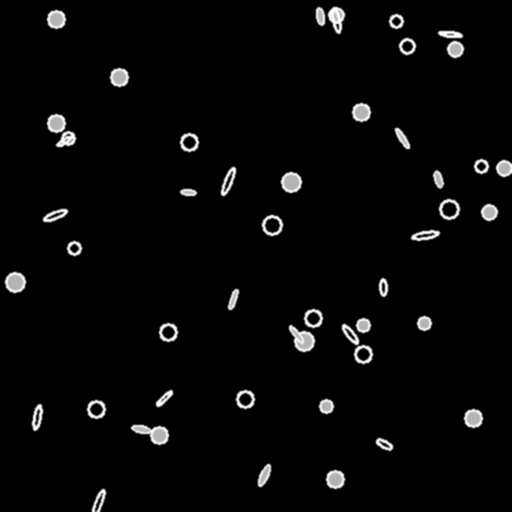pseudomonas: (220, 167, 236, 195), (340, 323, 360, 345), (256, 463, 272, 487), (90, 489, 106, 512), (394, 127, 410, 149), (43, 208, 67, 222), (155, 389, 173, 407), (288, 325, 304, 343), (330, 8, 342, 32), (412, 230, 438, 240), (227, 289, 239, 309), (32, 405, 42, 429), (376, 437, 392, 451), (432, 170, 444, 188), (131, 424, 151, 434), (56, 135, 72, 147), (438, 30, 462, 38), (315, 7, 325, 25), (380, 278, 386, 296), (180, 189, 196, 195)
synechocystis: (440, 200, 458, 218), (282, 173, 300, 191), (295, 332, 313, 350), (6, 273, 24, 291), (263, 216, 281, 234), (465, 410, 481, 426), (237, 391, 253, 407), (327, 471, 343, 487), (48, 11, 64, 27), (355, 346, 371, 362), (305, 310, 321, 326), (353, 104, 369, 120), (48, 115, 64, 131), (181, 134, 197, 150), (111, 69, 127, 85), (88, 401, 104, 417), (151, 427, 167, 443), (160, 324, 176, 340), (400, 39, 414, 53), (482, 205, 496, 219), (448, 42, 462, 56), (497, 161, 511, 175), (329, 8, 343, 22), (320, 400, 332, 412), (390, 15, 402, 27), (357, 319, 369, 331), (68, 242, 80, 254), (475, 160, 487, 172), (62, 132, 74, 144), (418, 317, 430, 329)
